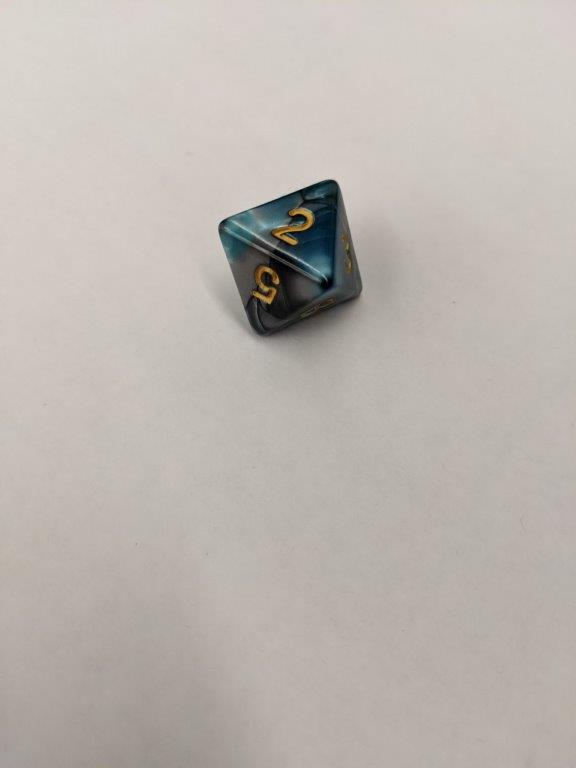d8-2: (221, 179, 367, 339)
